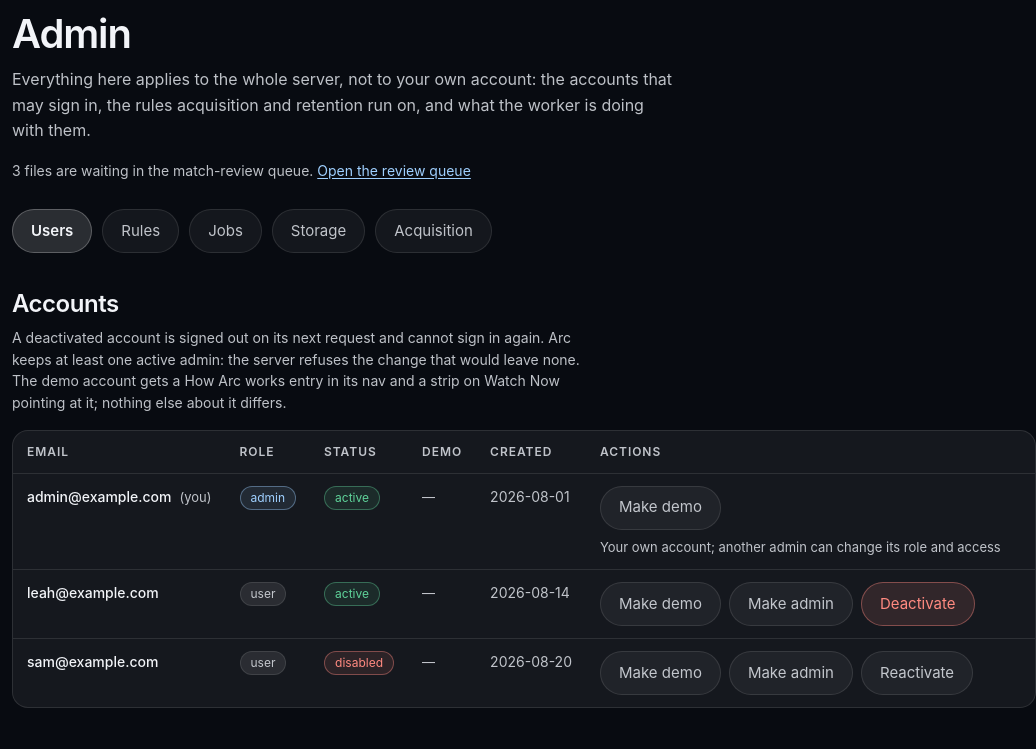
Admin — Users (FR-D1) › shows the server’s 409 next to the row that caused it
Click the 1st button "Make admin": (791, 604) left=729, top=582, right=853, bottom=626
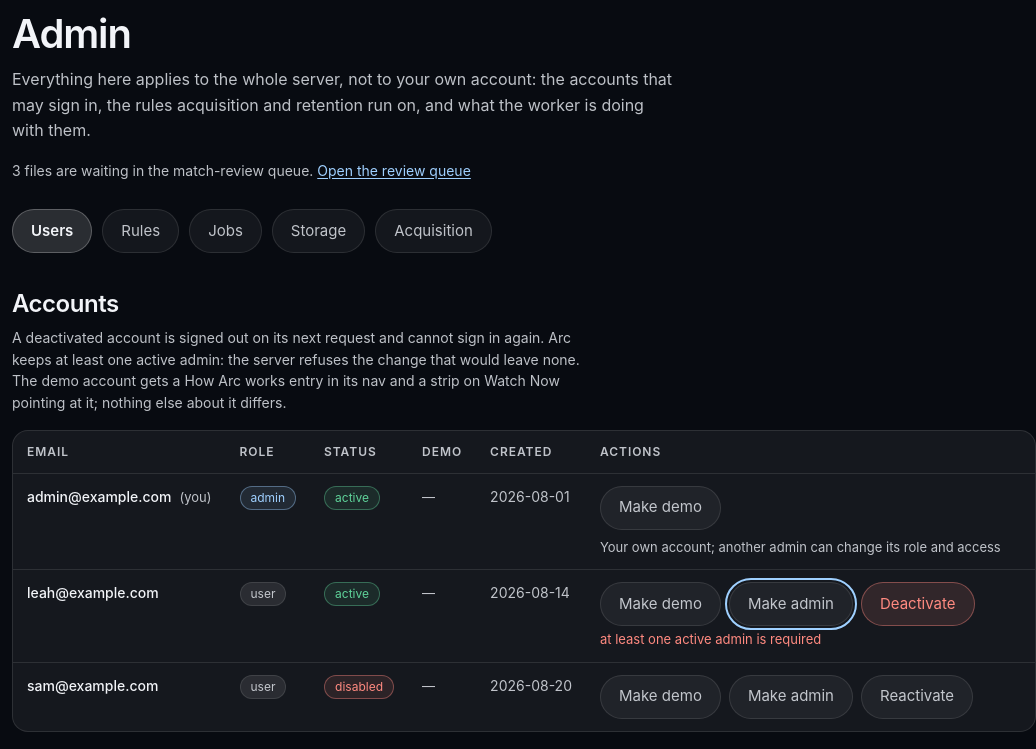
Check: the message reads "at least one active admin is required", box left=600, top=631, right=821, bottom=647
